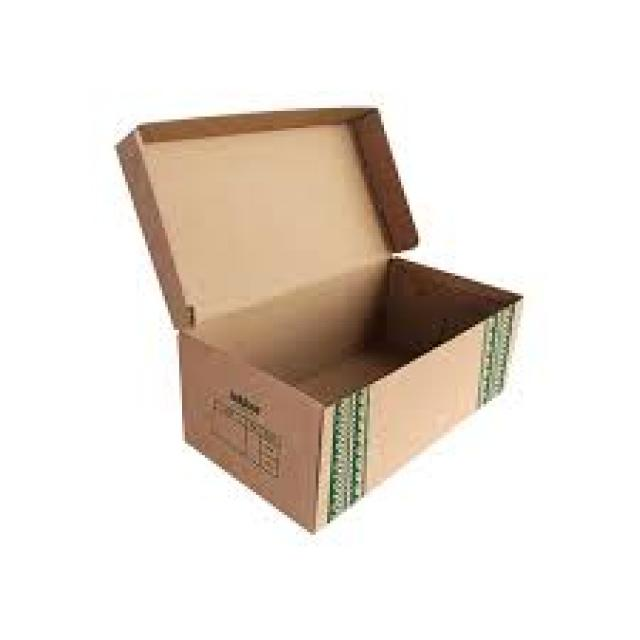Carton: (115, 114, 517, 532)
